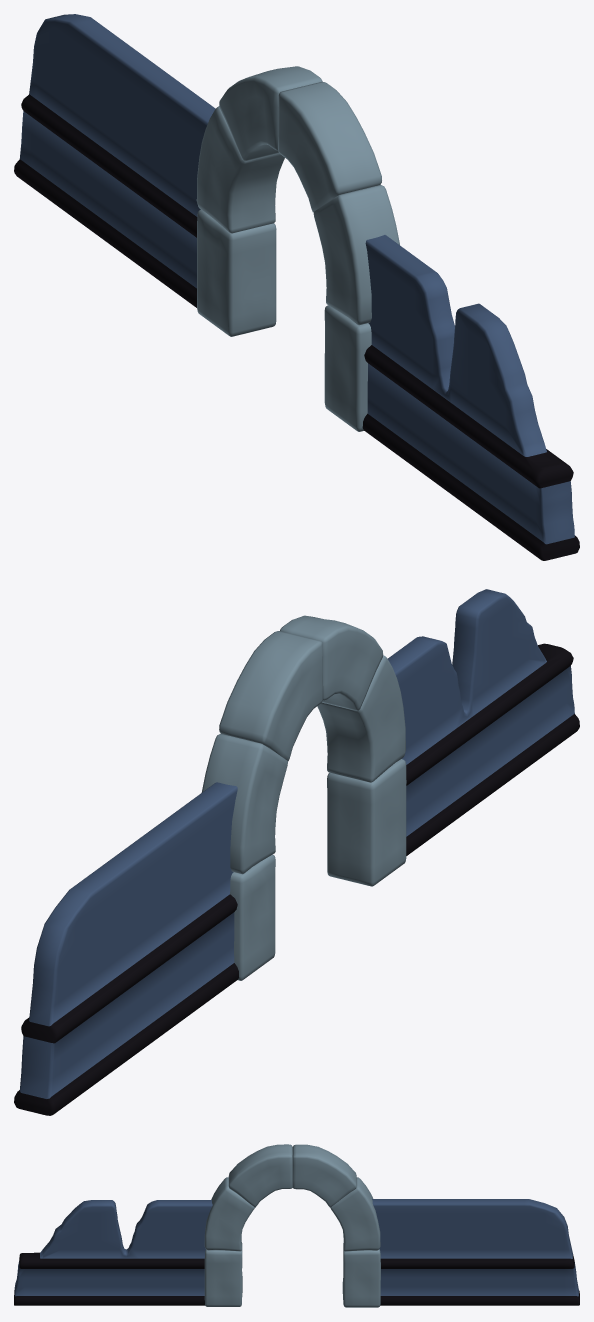
Rendered from arc-2.obj.
The picture shows the model from 3 angles, top to bottom: view 1: azimuth 30°, elevation 25°; view 2: azimuth 150°, elevation 25°; view 3: azimuth 270°, elevation 25°; orthographic projection. The views are drawn at different scales.
Parts seen in each view (by area): view 1: LeftWall_Cube.038, RightWall_Cube.036, Cube.007, Cube.010, Cube.006, Cube.009, Cube.008, Cube.005; view 2: RightWall_Cube.036, LeftWall_Cube.038, Cube.008, Cube.005, Cube.009, Cube.006, Cube.007, Cube.010; view 3: RightWall_Cube.036, LeftWall_Cube.038, Cube.008, Cube.007, Cube.006, Cube.009, Cube.010, Cube.005.
Boxes of the visible parts, bbox=[...] form: LeftWall_Cube.038: bbox=[362, 235, 579, 560]; RightWall_Cube.036: bbox=[14, 14, 215, 307]; Cube.007: bbox=[278, 81, 381, 212]; Cube.010: bbox=[197, 209, 276, 336]; Cube.006: bbox=[313, 185, 399, 325]; Cube.009: bbox=[196, 106, 284, 233]; Cube.008: bbox=[219, 66, 322, 161]; Cube.005: bbox=[324, 305, 371, 431]; RightWall_Cube.036: bbox=[14, 782, 238, 1115]; LeftWall_Cube.038: bbox=[388, 589, 579, 855]; Cube.008: bbox=[219, 631, 323, 761]; Cube.005: bbox=[327, 759, 406, 886]; Cube.009: bbox=[201, 734, 287, 874]; Cube.006: bbox=[317, 655, 405, 782]; Cube.007: bbox=[280, 615, 383, 710]; Cube.010: bbox=[230, 854, 275, 980]; RightWall_Cube.036: bbox=[372, 1199, 579, 1305]; LeftWall_Cube.038: bbox=[14, 1200, 212, 1305]; Cube.008: bbox=[292, 1144, 356, 1207]; Cube.007: bbox=[228, 1144, 292, 1207]; Cube.006: bbox=[204, 1177, 255, 1251]; Cube.009: bbox=[330, 1177, 380, 1251]; Cube.010: bbox=[342, 1243, 380, 1307]; Cube.005: bbox=[204, 1242, 242, 1306].
Size of the model in its own units: 0.5636 by 3.06 by 10.29.
